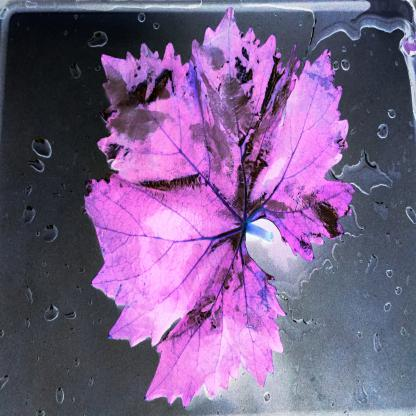grape leaf: (71, 10, 358, 406)
